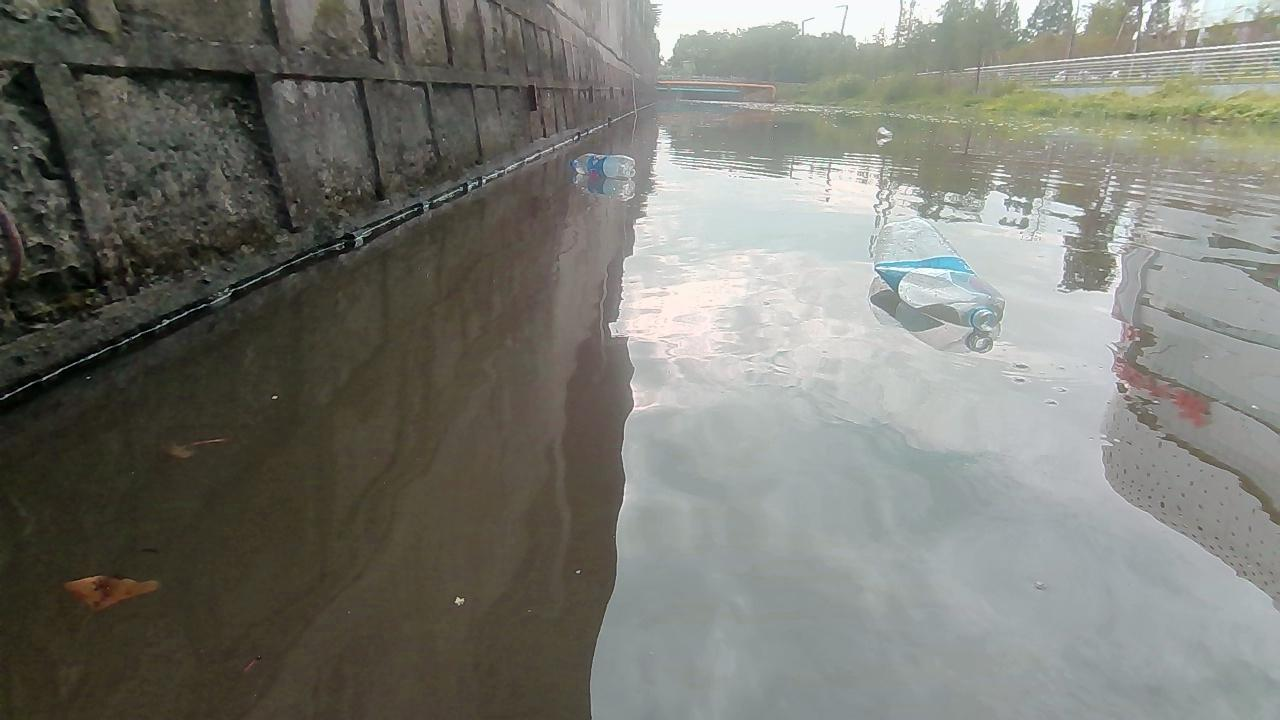Plastic: (871, 215, 1009, 336), (568, 152, 638, 180), (874, 125, 894, 144)
